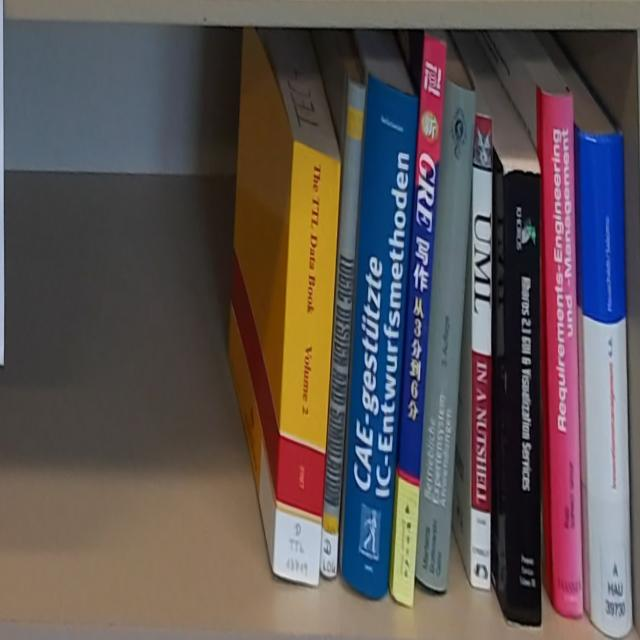Book Spine: (339, 72, 419, 596), (414, 74, 478, 591), (392, 36, 446, 605), (273, 137, 341, 588), (580, 130, 631, 640), (318, 78, 364, 580), (541, 91, 583, 620), (503, 171, 542, 635), (471, 112, 495, 590)
